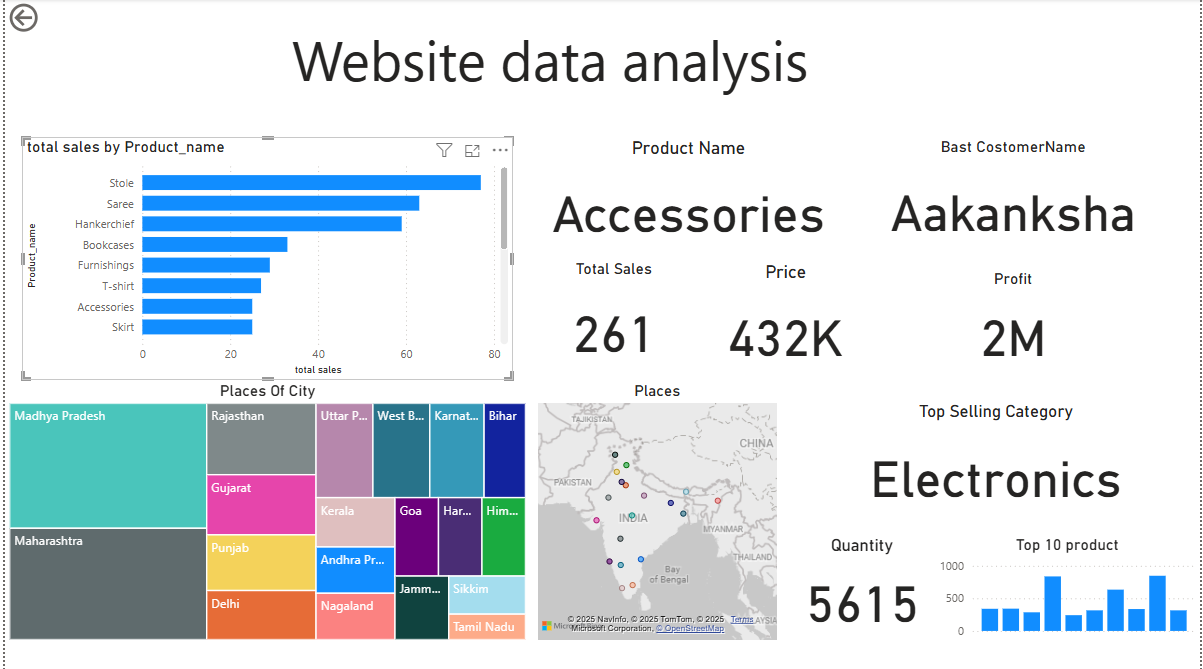

This screenshot's page, from the dashboard's own definition file:
{"tool":"powerbi","page":{"name":"Page 1","canvas":[1280,720],"ordinal":0},"visuals":[{"type":"barChart","fields":{"Category":["List of Orders.Product_name"],"Y":["Order Details.total sales"]},"box":[18.3,148.3,525.9,260.1],"z":0},{"type":"card","title":"Total Sales","fields":{"Values":["Order Details.total sales"]},"box":[565.8,278.4,173.4,127.8],"z":1000},{"type":"card","title":"Price ","fields":{"Values":["Order Details.Price"]},"box":[754.1,280.6,164.3,130.1],"z":2000},{"type":"card","title":"Product Name","fields":{"Values":["List of Orders.Product_name"]},"box":[546.5,148.3,371.9,130.1],"z":3000},{"type":"map","title":"Places","fields":{"Category":["List of Orders.State","List of Orders.City"],"Series":["List of Orders.State"]},"box":[566.1,408.9,266.4,282.4],"z":4000},{"type":"treemap","title":"Places Of City","fields":{"Group":["List of Orders.State","List of Orders.City"],"Values":["List of Orders.State"]},"box":[0,408.9,563.4,282.4],"z":5000},{"type":"actionButton","box":[0,0,100,40],"z":6000},{"type":"card","title":"Profit","fields":{"Values":["Order Details.Profit"]},"box":[918.4,289.8,324,116.4],"z":7002},{"type":"card","title":"Bast CostomerName","fields":{"Values":["List of Orders.Bast CostomerName"]},"box":[918.4,148.3,324,130.1],"z":7003},{"type":"card","title":"Top Selling Category","fields":{"Values":["Order Details.Top Selling Category"]},"box":[843.1,431.2,436.9,132.3],"z":7004},{"type":"card","title":"Quantity","fields":{"Values":["Order Details.Quantity"]},"box":[831.4,574.3,173.6,112.5],"z":7005},{"type":"textbox","box":[87.8,20.5,992.5,93.5],"z":7006},{"type":"columnChart","title":"Top 10 product","fields":{"Category":["List of Orders.Product_name"],"Y":["Order Details.Total Quantity"]},"box":[996.4,574.3,283.9,116.8],"z":7007}]}

Visuals, with their boxes in screenshot pixels (x1, y1, x2, y2), scaled from the page's 1280x720 canvas onto the 1203x669 screenshot:
barChart - List of Orders.Product_name x Order Details.total sales: <bbox>17, 138, 511, 379</bbox>
"Total Sales" card: <bbox>532, 259, 695, 377</bbox>
"Price " card: <bbox>709, 261, 863, 382</bbox>
"Product Name" card: <bbox>514, 138, 863, 259</bbox>
"Places" map: <bbox>532, 380, 782, 642</bbox>
"Places Of City" treemap: <bbox>0, 380, 530, 642</bbox>
actionButton: <bbox>0, 0, 94, 37</bbox>
"Profit" card: <bbox>863, 269, 1168, 377</bbox>
"Bast CostomerName" card: <bbox>863, 138, 1168, 259</bbox>
"Top Selling Category" card: <bbox>792, 401, 1202, 524</bbox>
"Quantity" card: <bbox>781, 534, 945, 638</bbox>
textbox: <bbox>83, 19, 1015, 106</bbox>
"Top 10 product" columnChart: <bbox>936, 534, 1202, 642</bbox>
